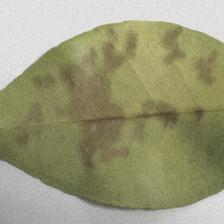black spot: (53, 20, 200, 156)
